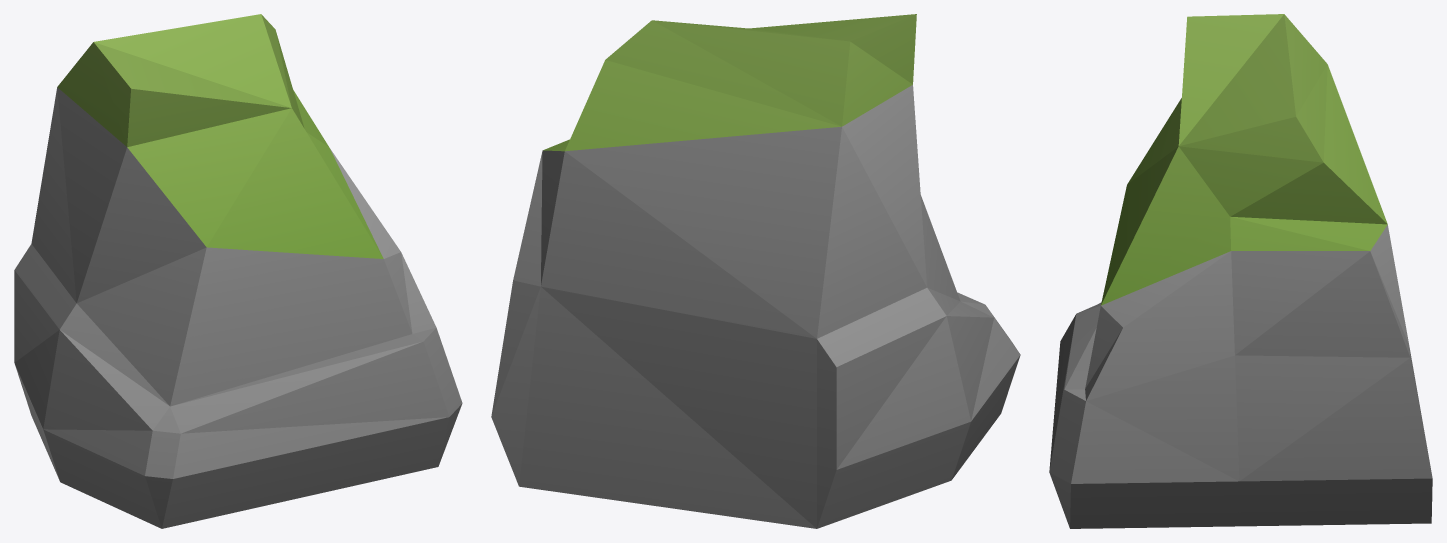
Rendered from green-stone.glb.
3 renders of one model, left to right at view 1: azimuth 30°, elevation 25°; view 2: azimuth 150°, elevation 25°; view 3: azimuth 270°, elevation 25°, orthographic. The views are drawn at different scales.
Visible parts, largest first — view 1: green stone; view 2: green stone; view 3: green stone.
Boxes of the visible parts, x1,y1,x2,y2 form: green stone: (14,14,462,528); green stone: (491,14,1020,528); green stone: (1049,14,1432,528).
Bounding box in the file's own units: 0.5735 × 0.6482 × 0.5625.
Materials: 1 (1 with a texture image).
